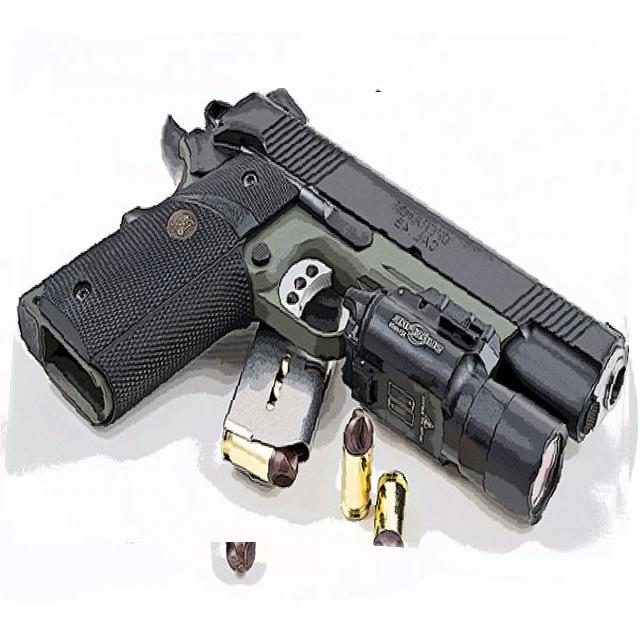gun: (8, 82, 637, 552)
